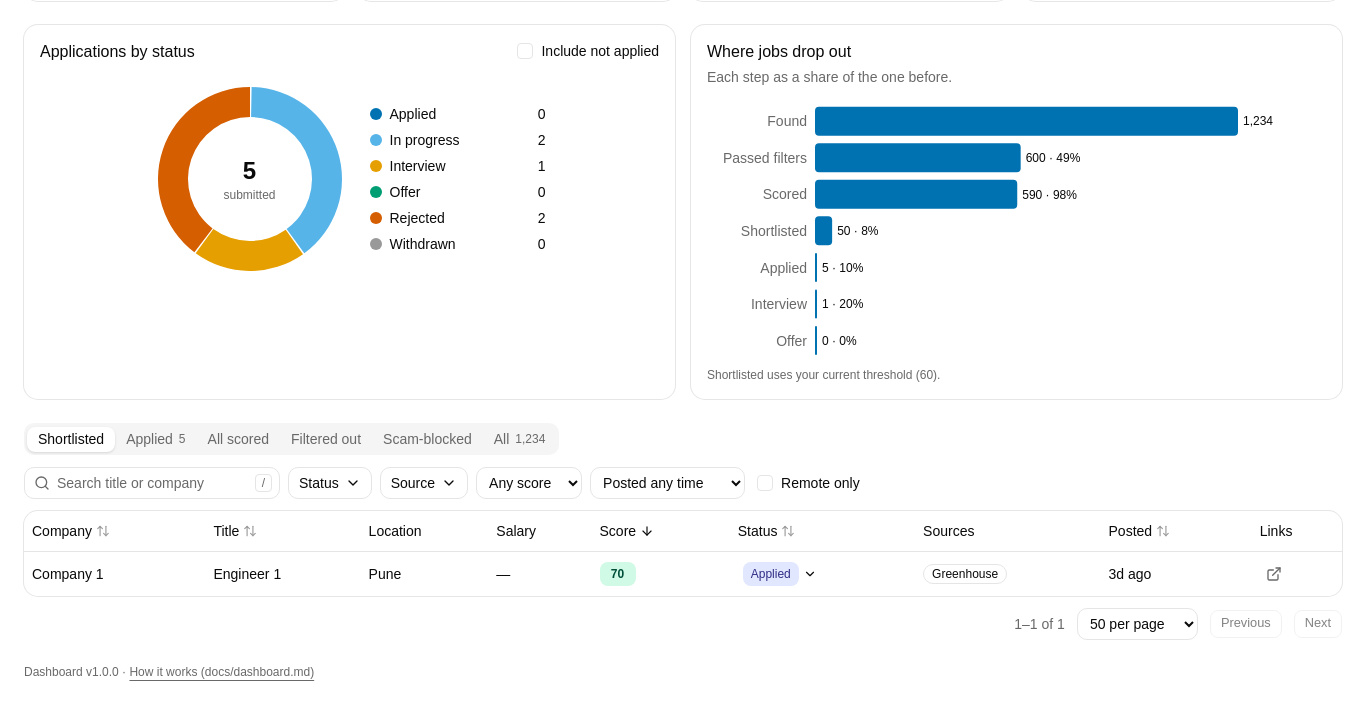
Test: StatusSelect › saves a forward move with the status it showed and the write header, then shows the reloaded status
The image size is (1366, 704).
(page scrolled)
Step 1. Click the button with aria-label "Status: Applied. Change status" → point(780, 574), box [738,560,822,588]
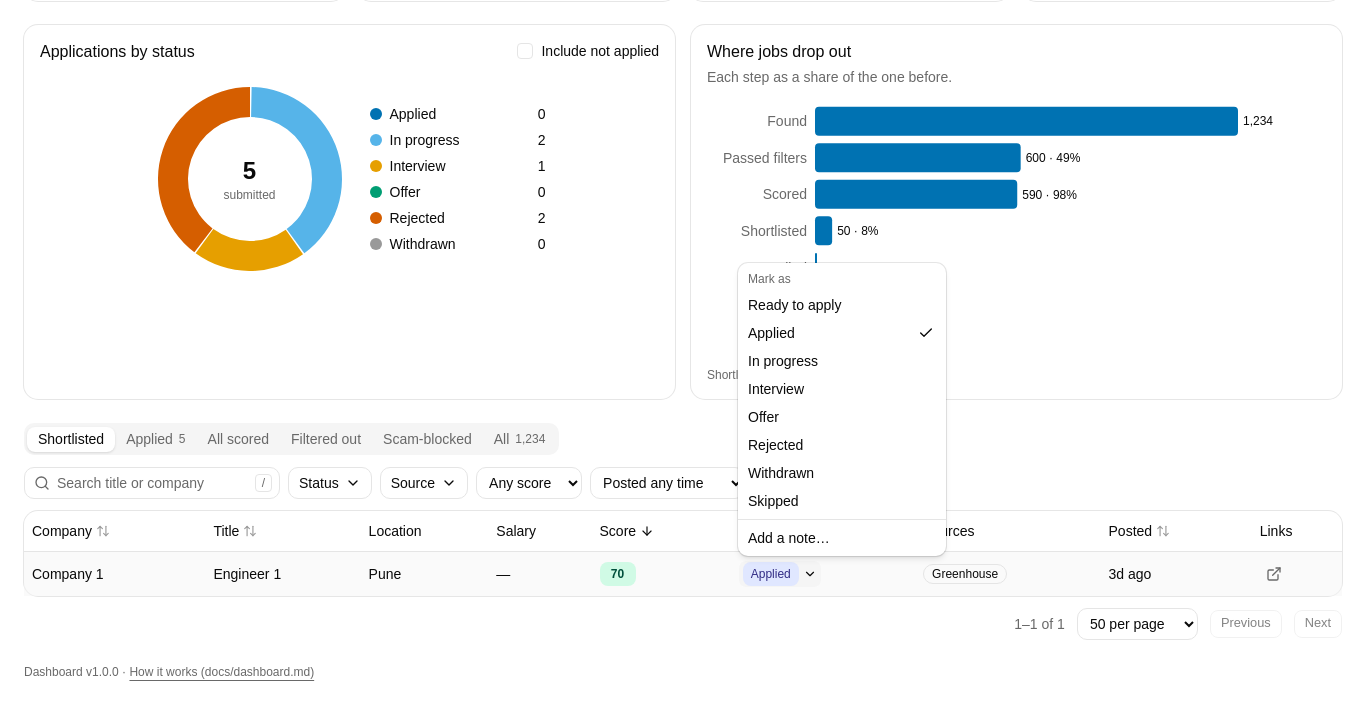
Step 2. Click the menu item "Interview" → point(776, 389), box [748,381,804,397]
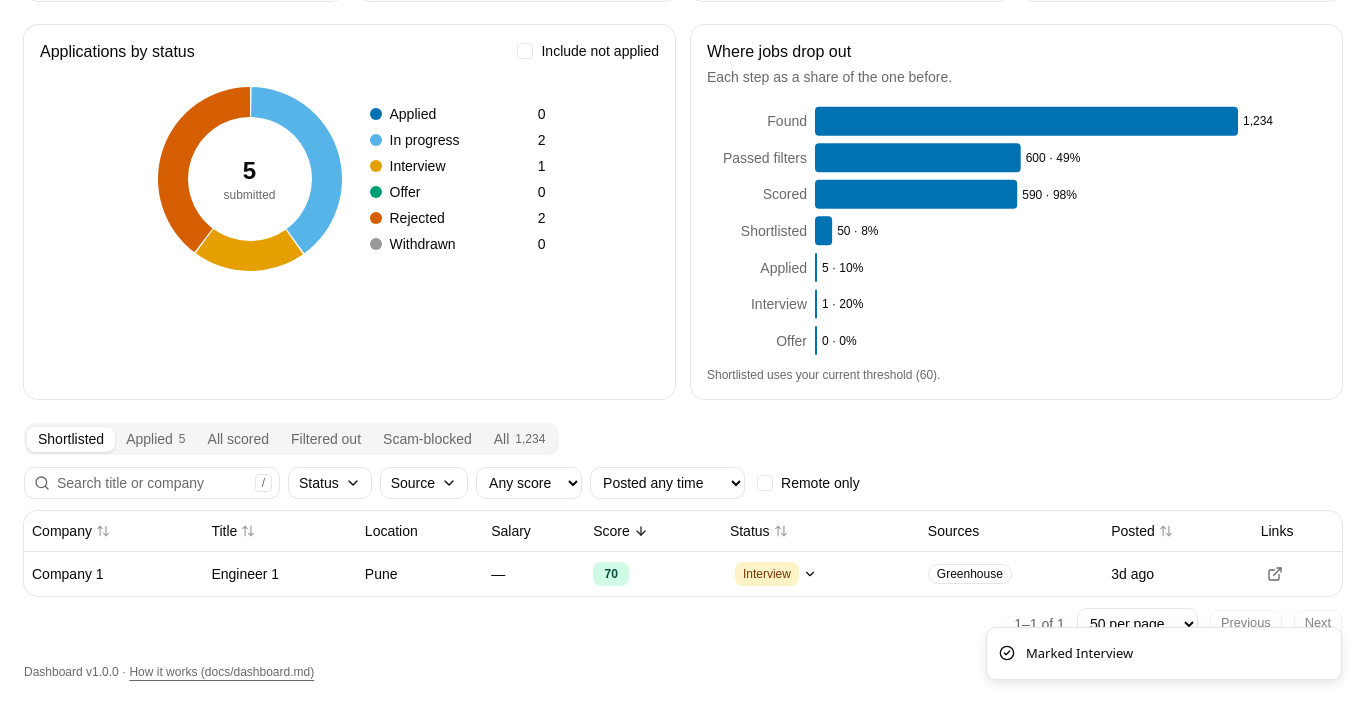
Expected: the text "Marked Interview" is shown, [1026,644,1133,663]
